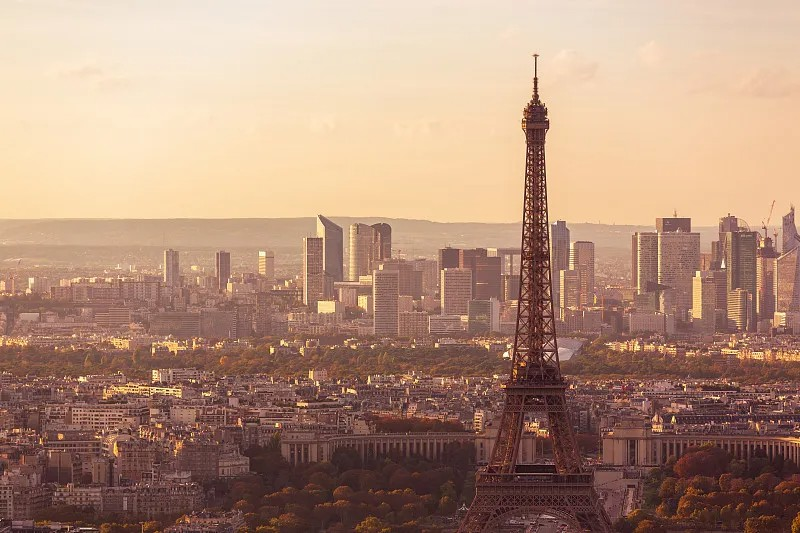Eiffel: (456, 54, 613, 533)
